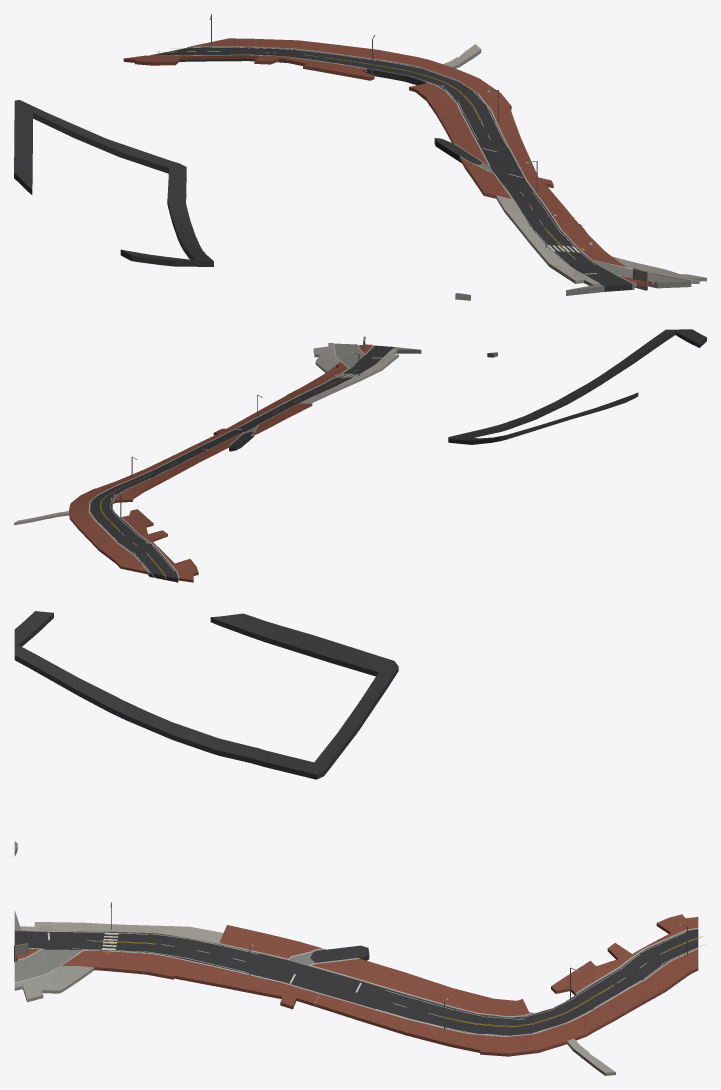
Rendered from 18-218889-118951.1717fcda.glb.
3 renders of one model, top to bottom at view 1: azimuth 30°, elevation 25°; view 2: azimuth 150°, elevation 25°; view 3: azimuth 270°, elevation 25°, orthographic. The views are drawn at different scales.
Size of the model in its own units: 147 by 40.94 by 148.
